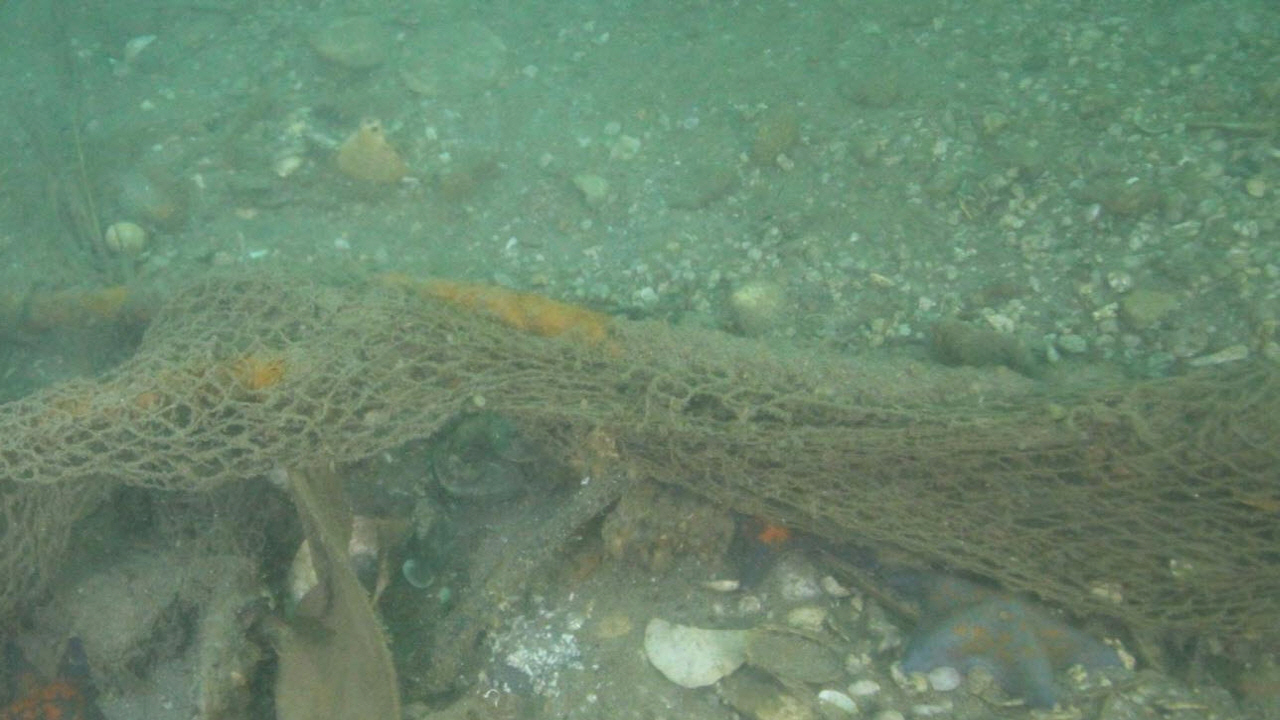fish net: (0, 274, 1280, 637)
